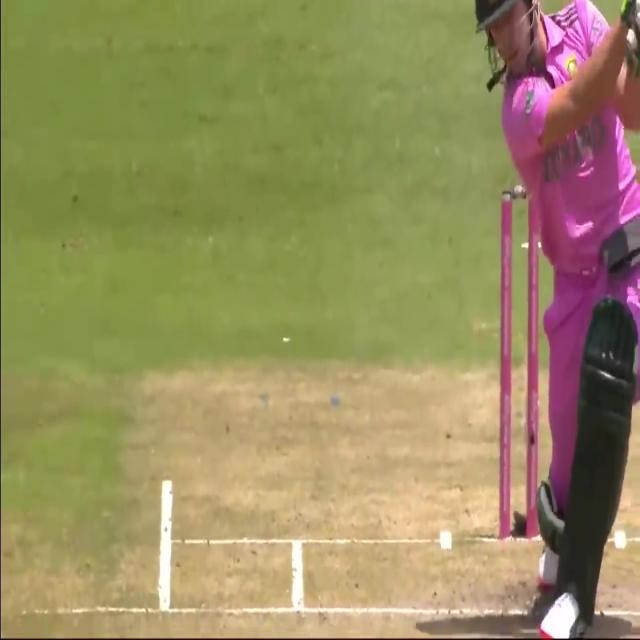Ball: (484, 2, 640, 640)
